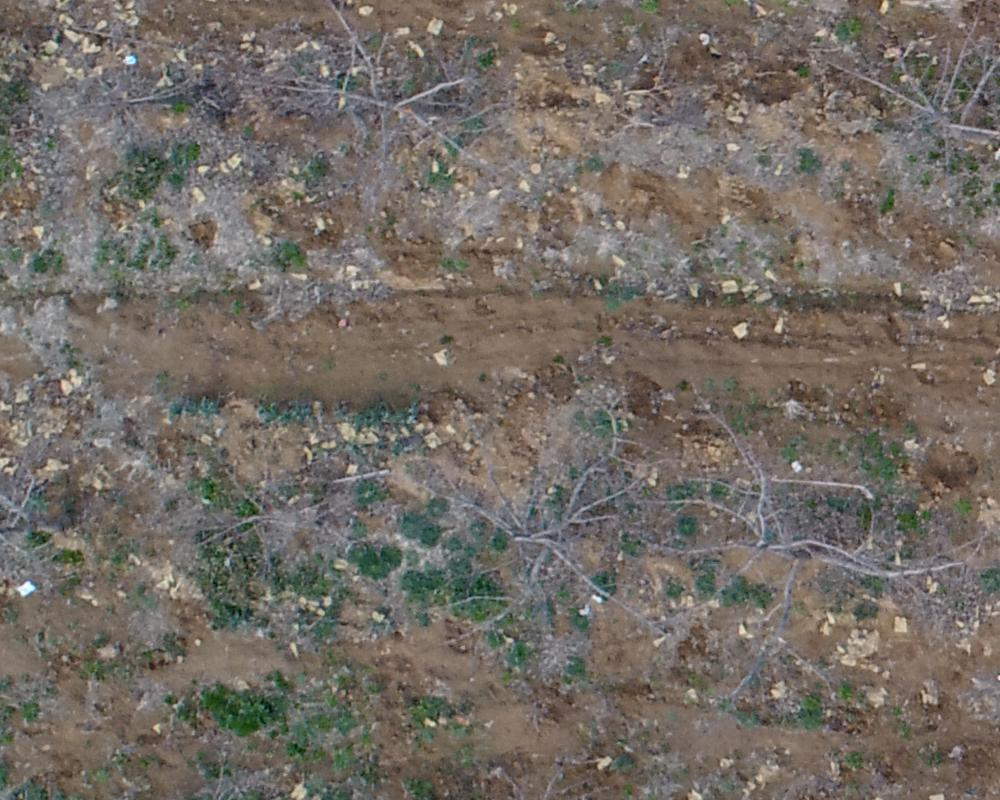apple: (657, 400, 965, 675), (441, 429, 656, 645), (285, 10, 499, 186), (819, 10, 990, 197), (182, 436, 379, 583)
